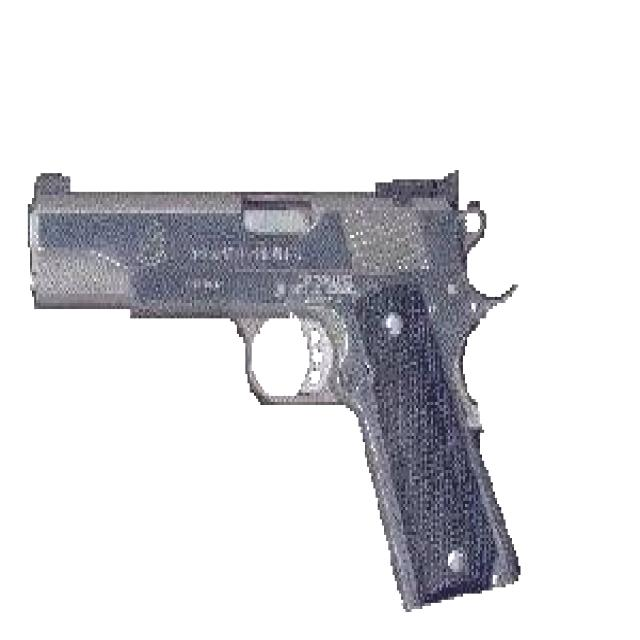pistol: (32, 167, 533, 600)
